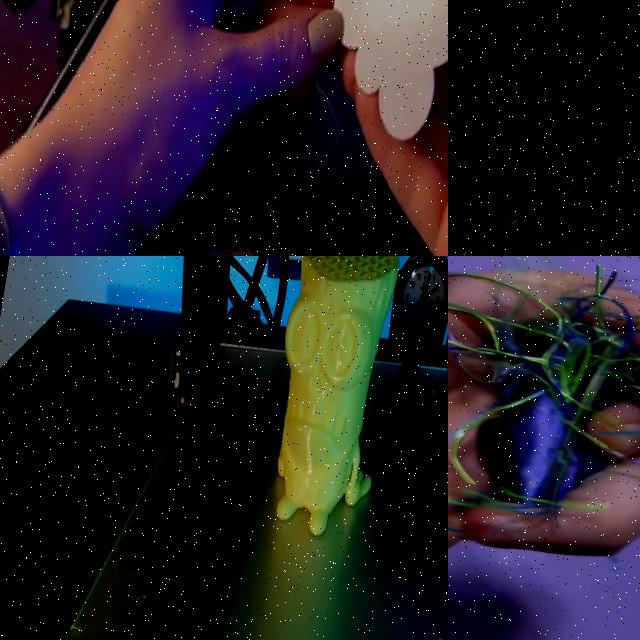spaghetti: (448, 275, 640, 554)
